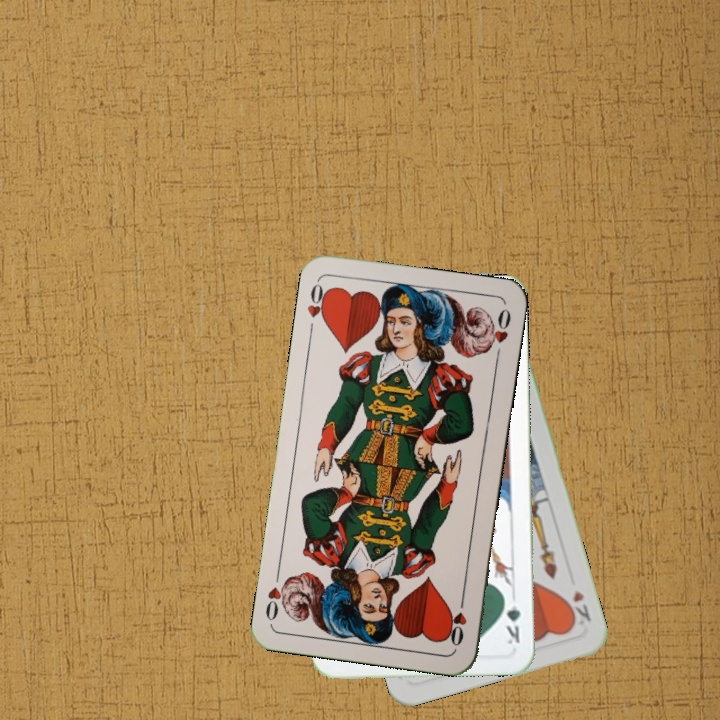GK: (500, 590, 523, 647)
HK: (562, 586, 594, 631)
HO: (444, 591, 470, 649), (303, 277, 333, 326)
